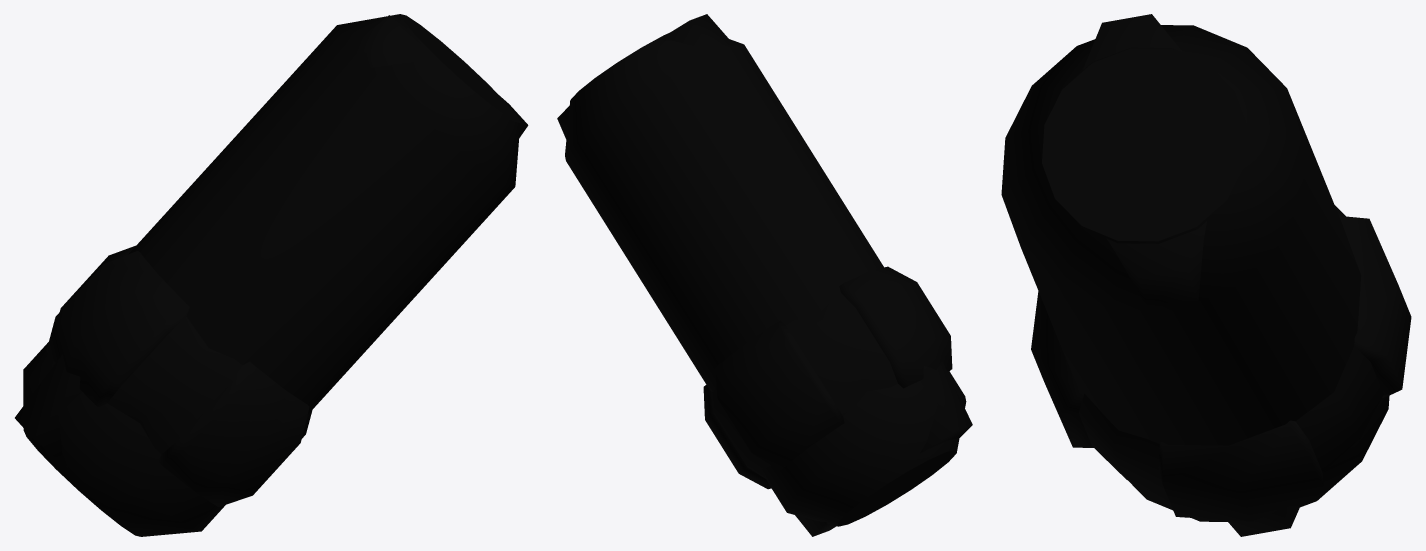
Rendered from hgn_collectable_loot_04.glb.
The picture shows the model from 3 angles, left to right: view 1: azimuth 30°, elevation 25°; view 2: azimuth 150°, elevation 25°; view 3: azimuth 270°, elevation 25°; orthographic projection. The views are drawn at different scales.
Parts seen in each view (by area): view 1: loot_container_03; view 2: loot_container_03; view 3: loot_container_03.
Part boxes in pixels (x1,y1,x2,y2): loot_container_03: (15, 14, 528, 536); loot_container_03: (557, 14, 972, 536); loot_container_03: (1001, 14, 1411, 536).
Bounding box in the file's own units: 1.01 × 1.03 × 0.5926.
1 material, 1 textured.
